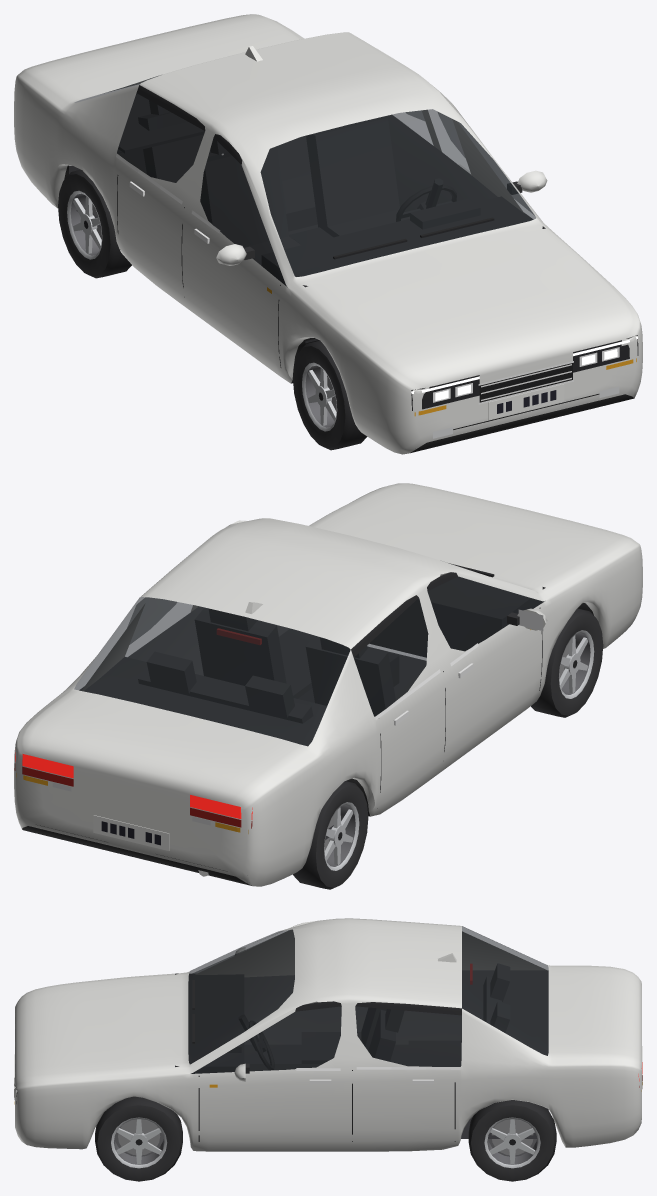
File: sedan_white.glb
3 renders of one model, top to bottom at view 1: azimuth 30°, elevation 25°; view 2: azimuth 150°, elevation 25°; view 3: azimuth 270°, elevation 25°, orthographic. The views are drawn at different scales.
Visible parts, largest first — view 1: sedan_white_body, Wheel_FR, Wheel_RR; view 2: sedan_white_body, Wheel_RR, Wheel_FR; view 3: sedan_white_body, Wheel_FL, Wheel_RL.
Boxes of the visible parts, <box> form: sedan_white_body: <box>14,14,642,454</box>; Wheel_FR: <box>293,340,367,450</box>; Wheel_RR: <box>58,169,131,278</box>; sedan_white_body: <box>14,483,642,886</box>; Wheel_RR: <box>293,781,368,889</box>; Wheel_FR: <box>531,608,603,717</box>; sedan_white_body: <box>14,918,642,1151</box>; Wheel_FL: <box>95,1096,182,1181</box>; Wheel_RL: <box>468,1100,556,1181</box>.
Bounding box in the file's own units: 0.1135 × 0.0741 × 0.2358.
8 materials, 1 textured.
